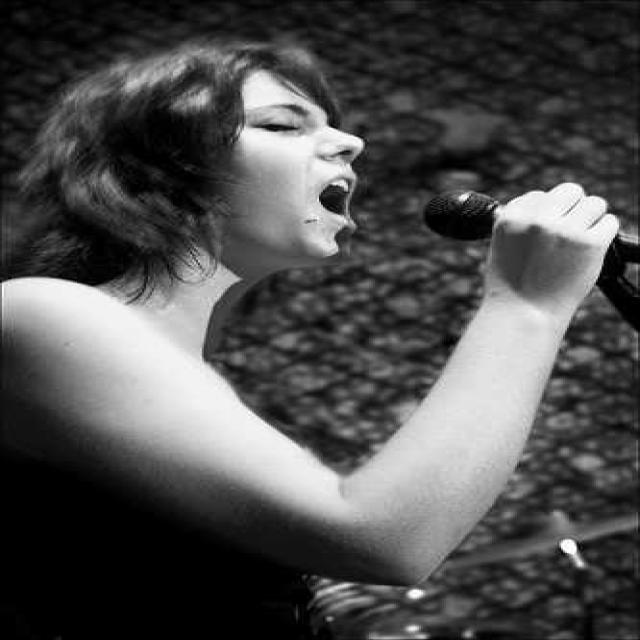microphone: (422, 185, 637, 274)
